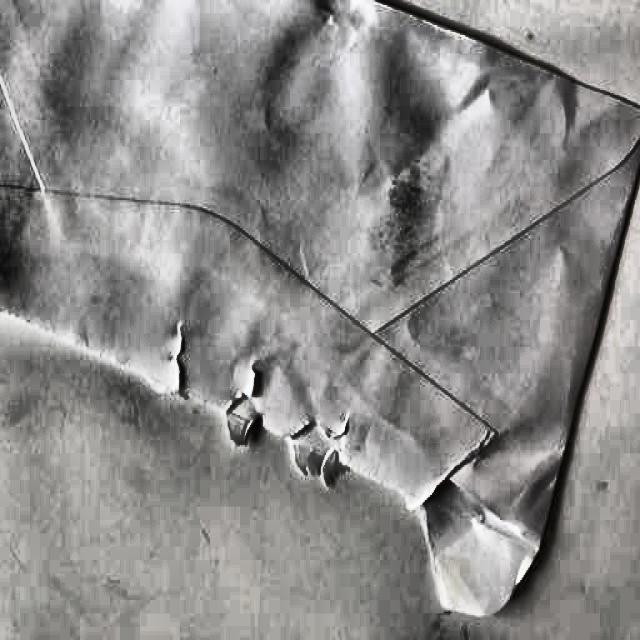paper: (0, 0, 585, 617)
